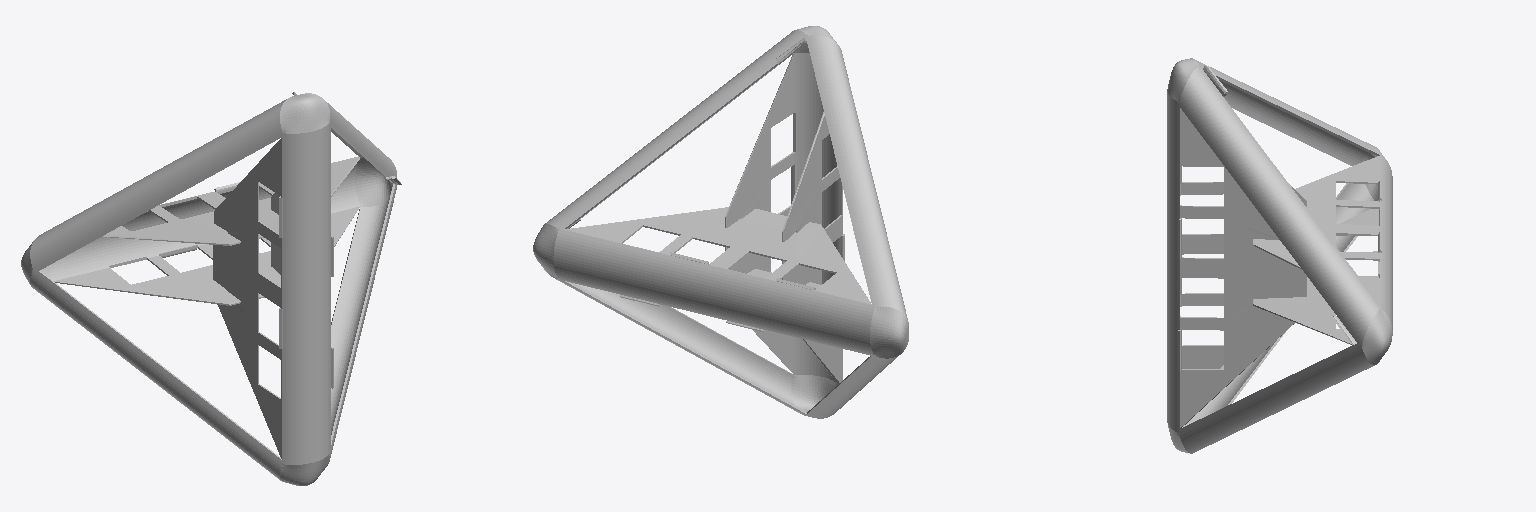
The model's file is error.obj.
3 views of the same model, side by side, from view 1: azimuth 30°, elevation 25°; view 2: azimuth 150°, elevation 25°; view 3: azimuth 270°, elevation 25° (orthographic).
Visible parts, largest first — view 1: Cube; view 2: Cube; view 3: Cube.
Boxes of the visible parts, box(x1,y1,x2,y2) form: Cube: box(21, 92, 401, 485); Cube: box(533, 26, 908, 418); Cube: box(1167, 58, 1392, 453).
Size of the model in its own units: 3.32 by 3.32 by 1.75.